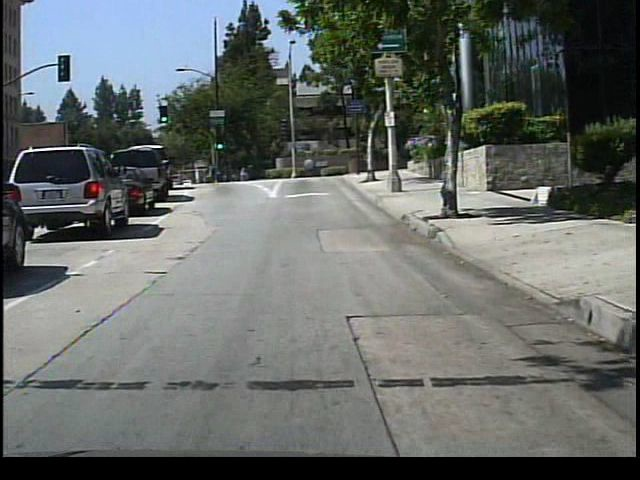person: (210, 160, 225, 184)
